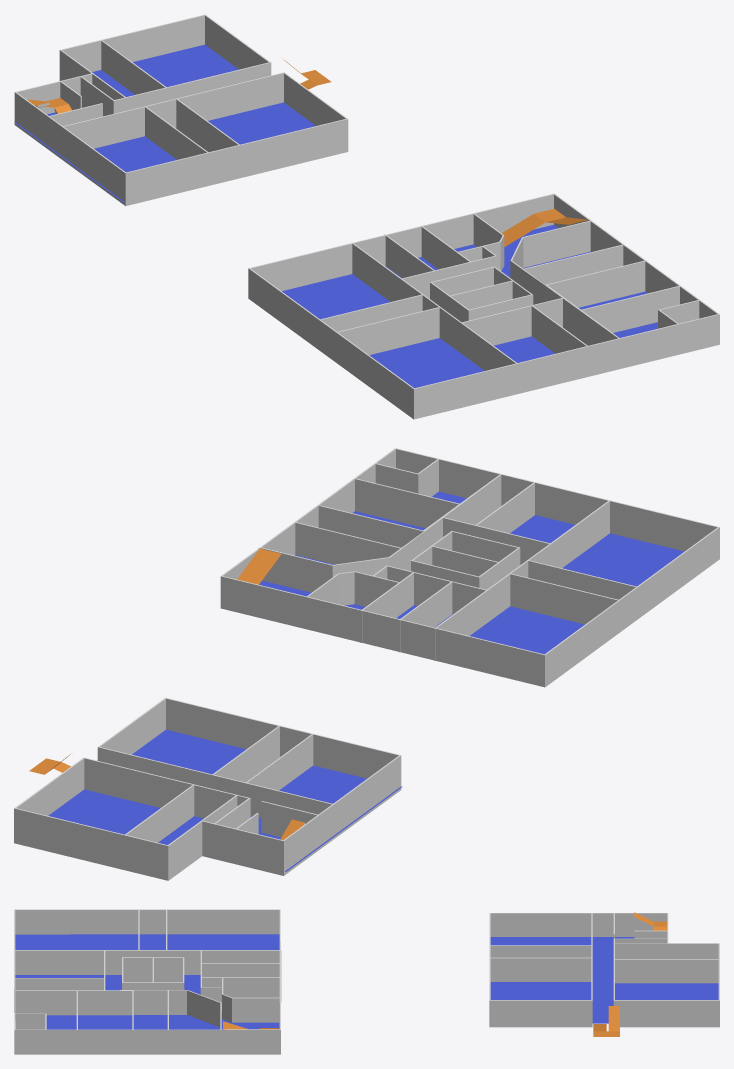
File: piani-1.fbx
3 views of the same model, one above another, from view 1: azimuth 30°, elevation 25°; view 2: azimuth 150°, elevation 25°; view 3: azimuth 270°, elevation 25° (orthographic). The views are drawn at different scales.
Parts seen in each view (by area): view 1: F2P-1.walls, F3P-1.walls, F2P-1.floor, F3P-1.floor; view 2: F2P-1.walls, F3P-1.walls, F2P-1.floor, F3P-1.floor; view 3: F2P-1.walls, F3P-1.walls, F2P-1.floor, F3P-1.floor.
Part boxes in pixels (x1,y1,x2,y2): F2P-1.walls: (248,193,719,419); F3P-1.walls: (14,14,348,206); F2P-1.floor: (282,208,657,388); F3P-1.floor: (14,44,331,202); F2P-1.walls: (220,448,719,687); F3P-1.walls: (14,697,401,880); F2P-1.floor: (237,491,684,654); F3P-1.floor: (29,729,402,871); F2P-1.walls: (14,909,281,1054); F3P-1.walls: (489,913,719,1027); F2P-1.floor: (15,934,279,1029); F3P-1.floor: (490,912,718,1036).
Bounding box in the file's own units: 452 × 48.85 × 1116.
